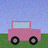vehicle: (8, 21, 40, 45)
